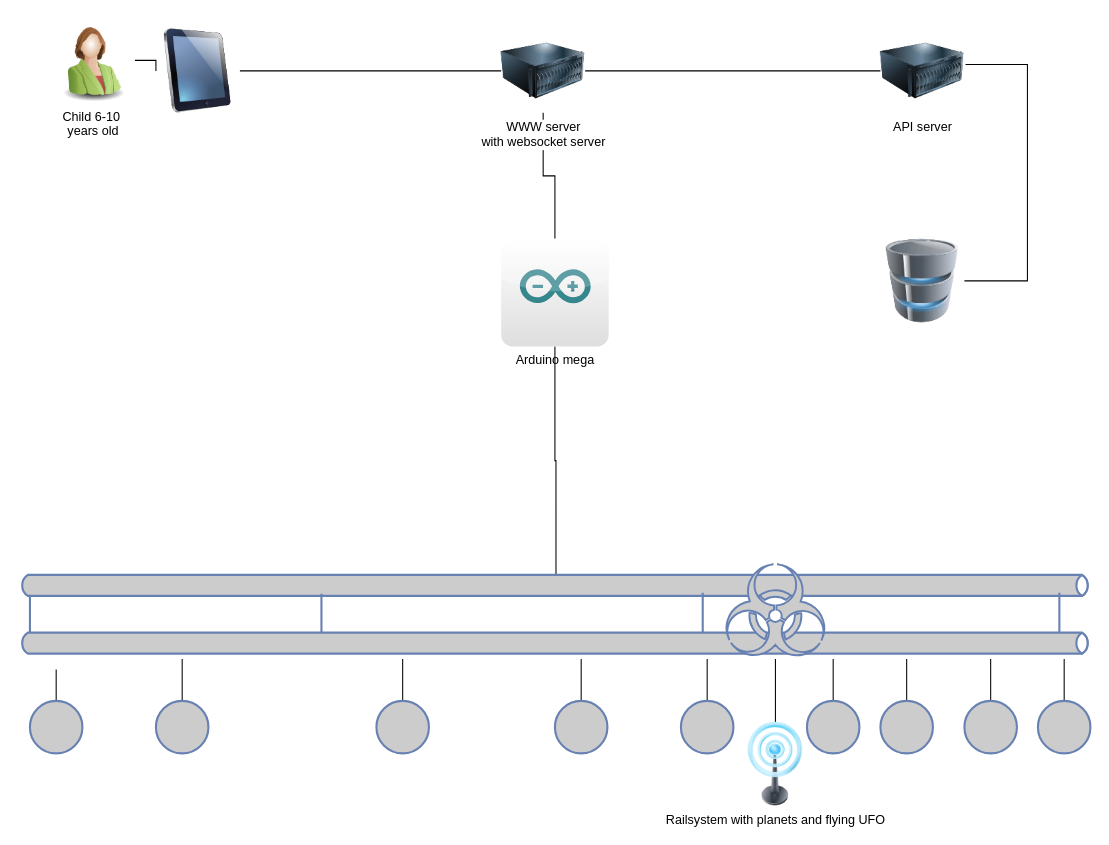
The diagram is 1109 pixels wide and 845 high, and some of its shapes have lost their labels. Each missing label, with the box of its shape:
Database server: (880, 238, 964, 322)
Motor mount: (721, 563, 828, 659)
Terminal for interaction: (155, 28, 239, 112)
